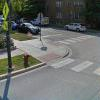Crosswalk: (49, 49, 100, 77)
